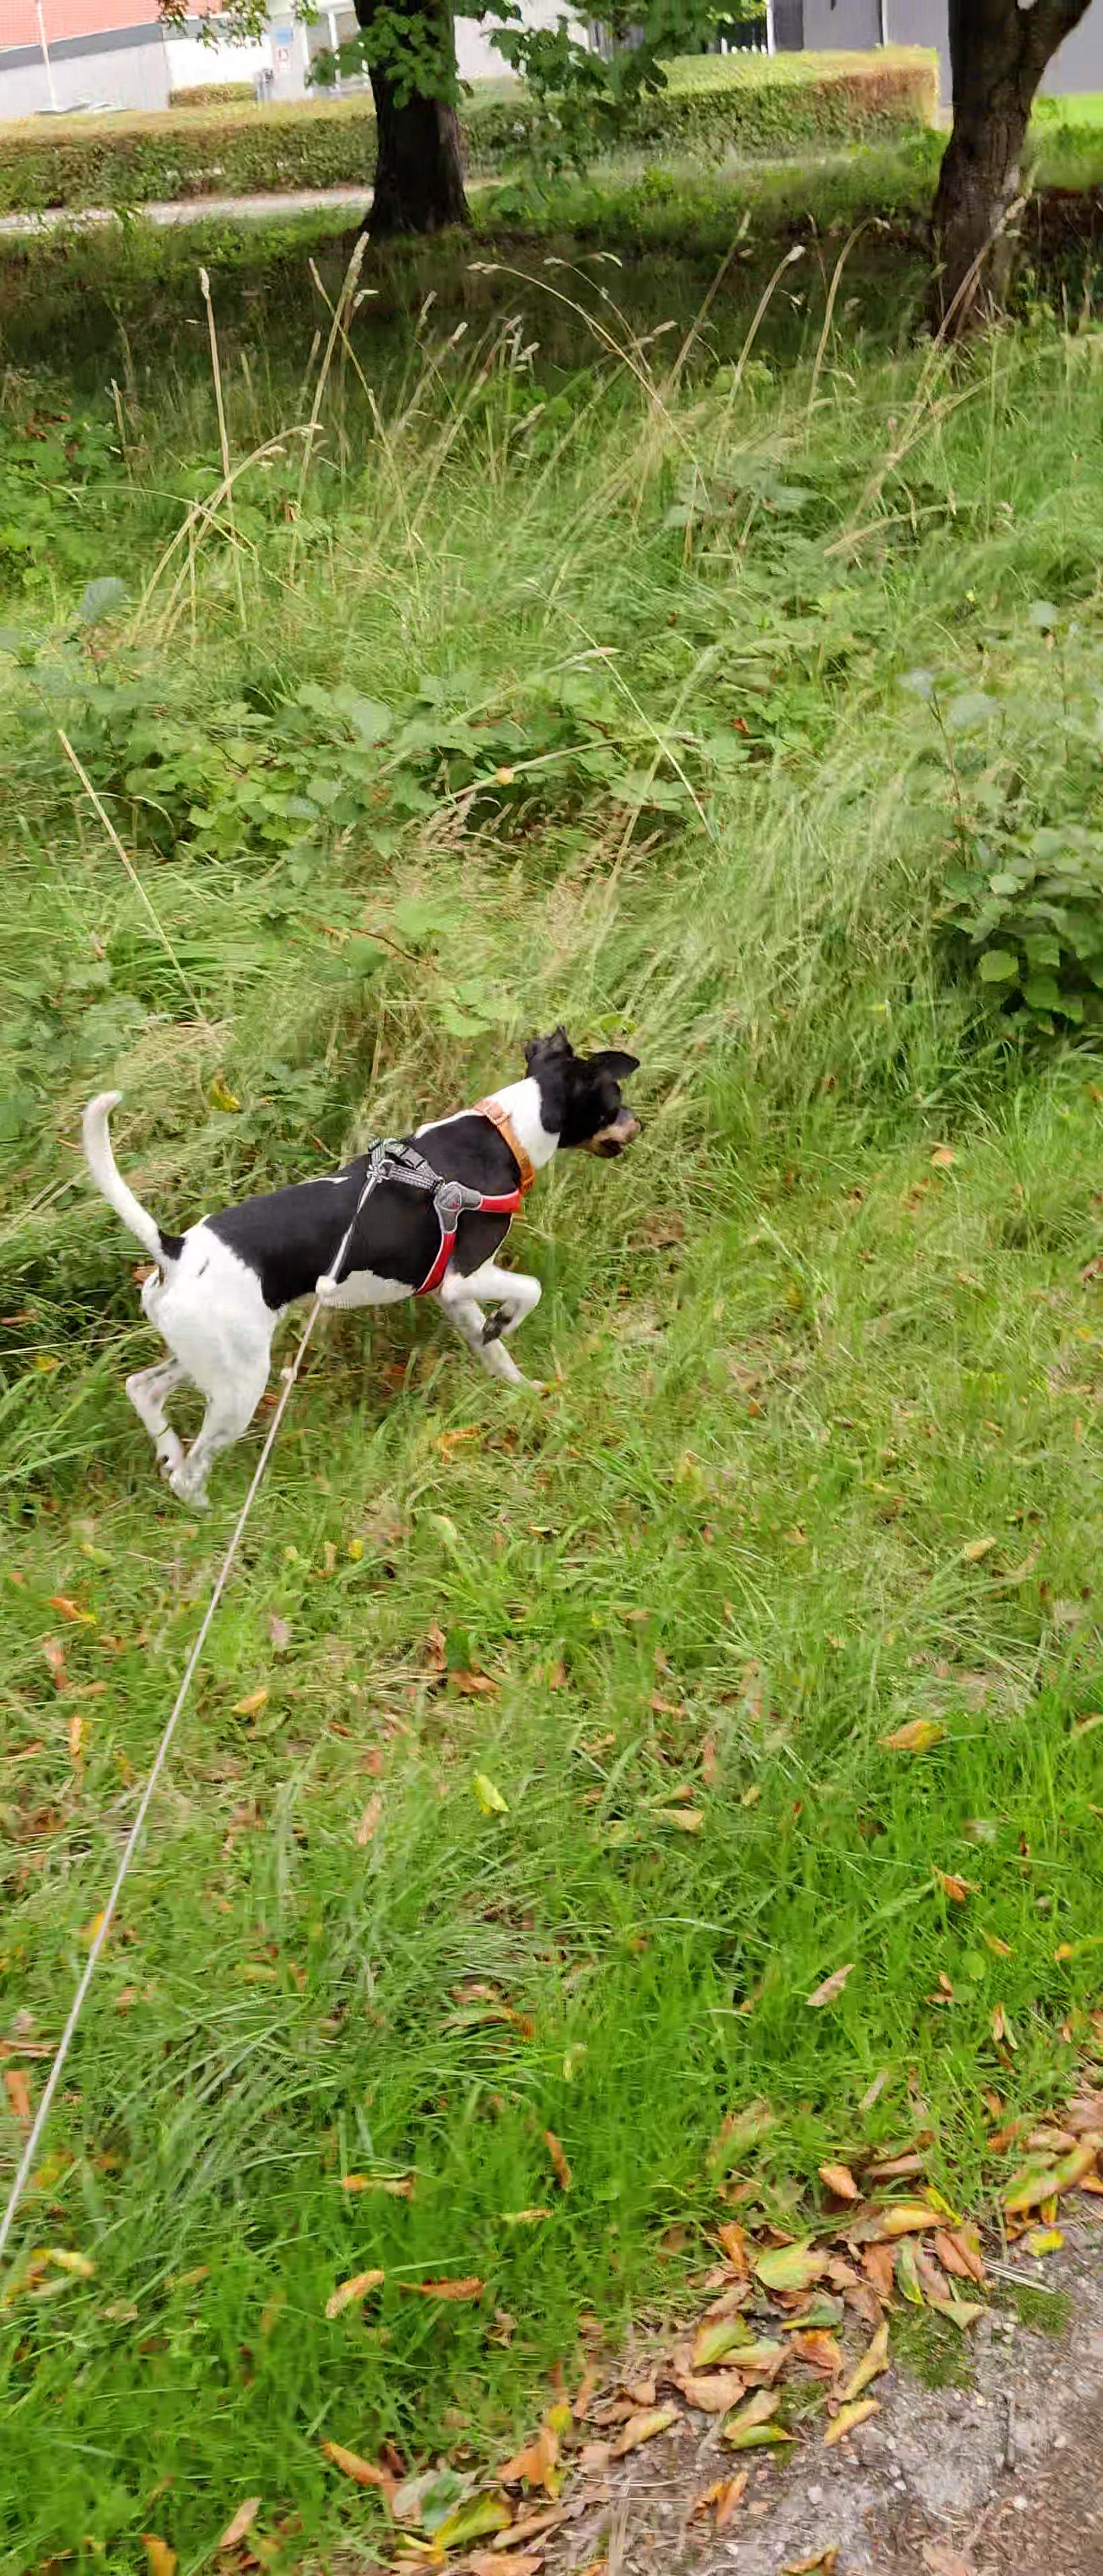Dog: (74, 1020, 651, 1533)
